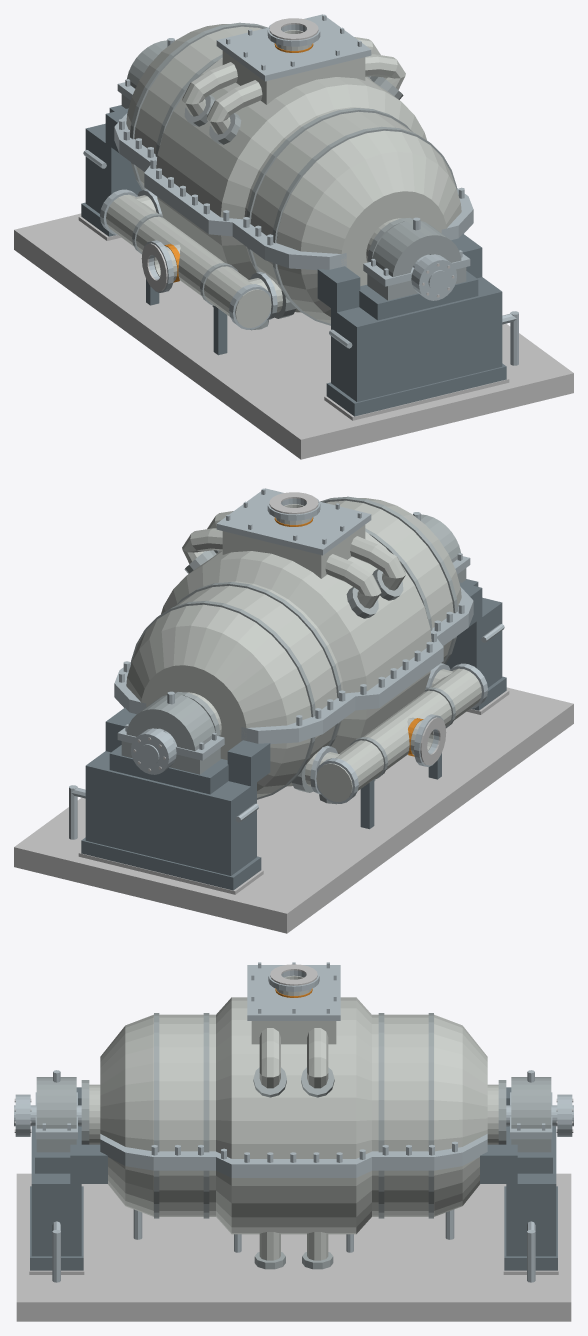
Rendered from compact.obj.
3 views of the same model, one above another, from view 1: azimuth 30°, elevation 25°; view 2: azimuth 150°, elevation 25°; view 3: azimuth 270°, elevation 25° (orthographic). The views are drawn at different scales.
Bounding box in the file's own units: 0.4957 × 0.5017 × 0.9.
